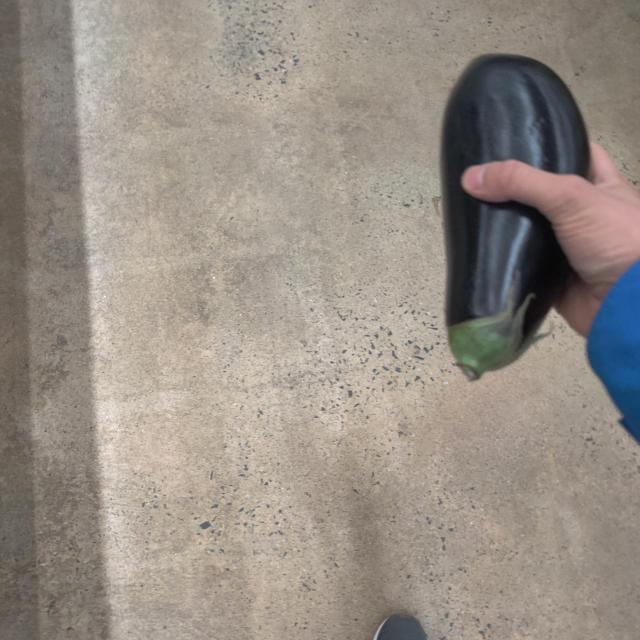Eggplant: (442, 49, 588, 386)
